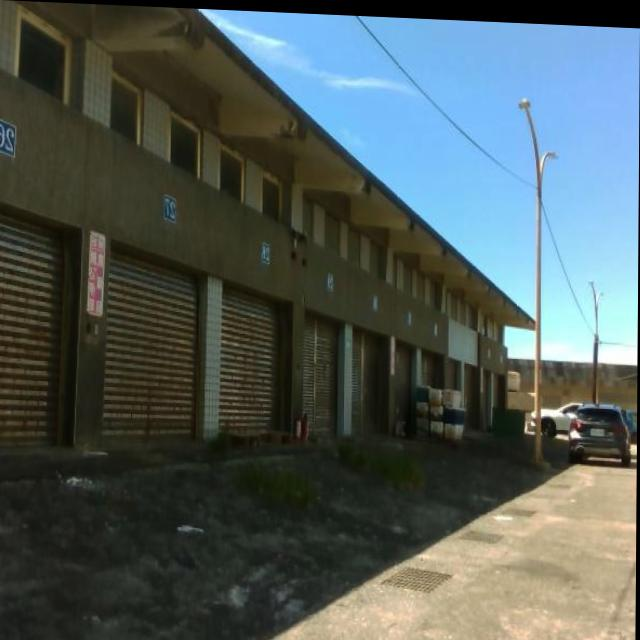pollute: (413, 376, 467, 440)
